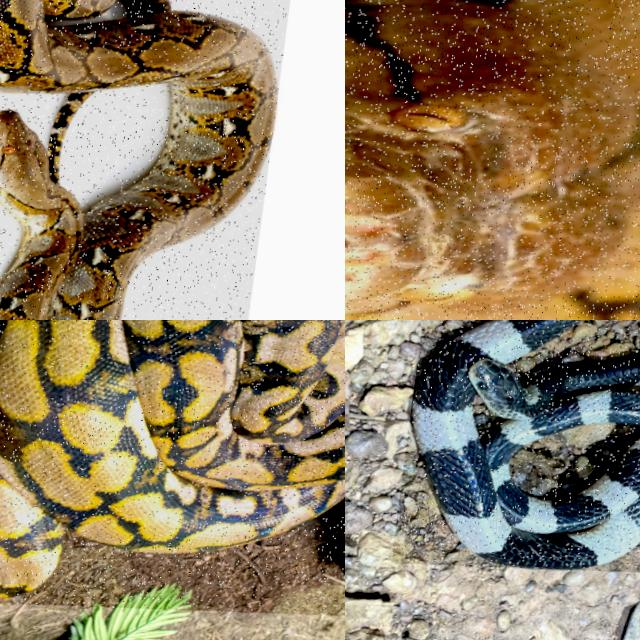Bungarus candidus: (411, 320, 639, 569)
Malayopython reticulatus: (0, 320, 344, 599), (345, 0, 639, 319), (0, 0, 276, 319)
